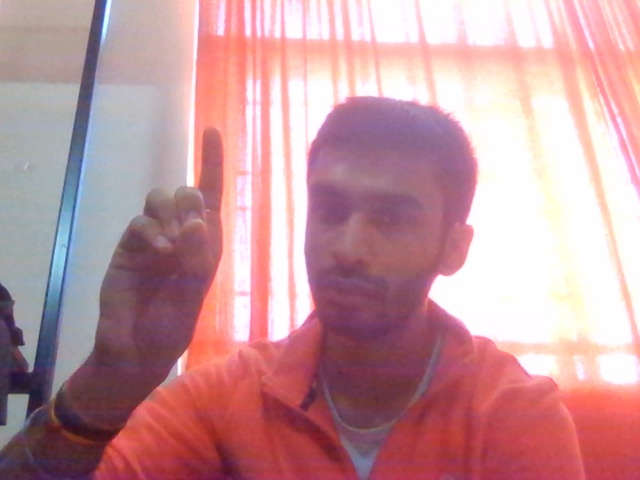D: (89, 110, 242, 397)
